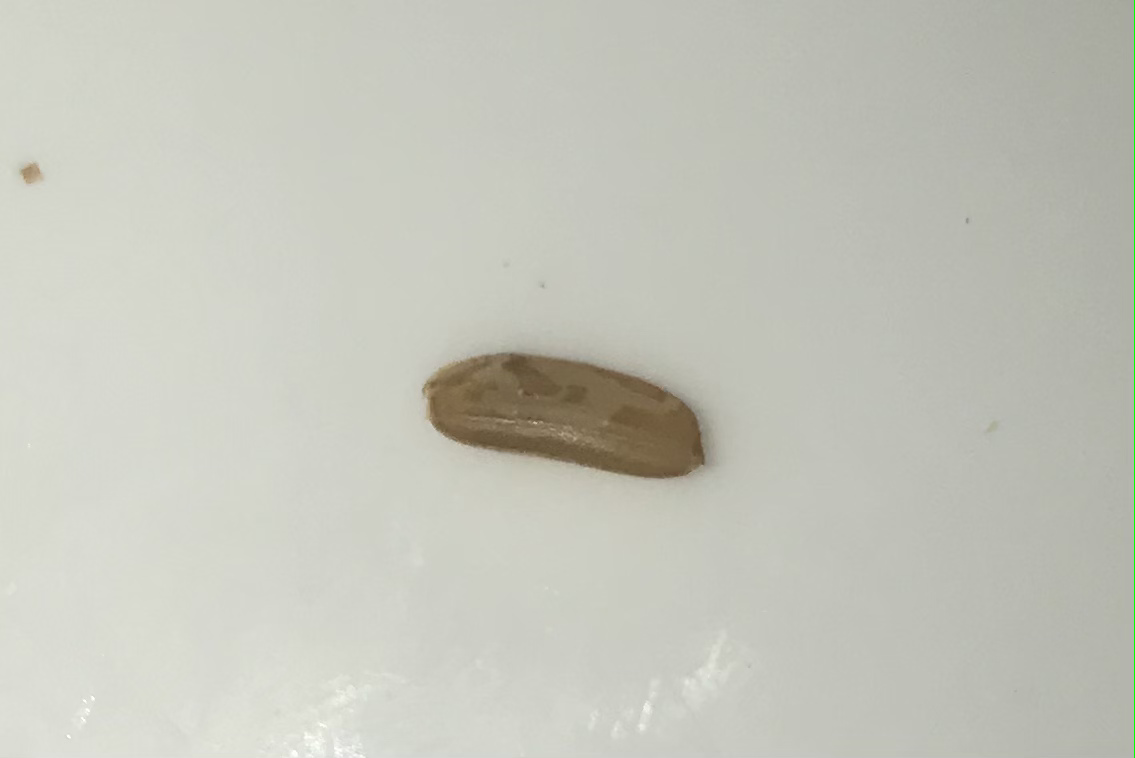Gao Lut Dien Bien: (418, 349, 707, 483)
